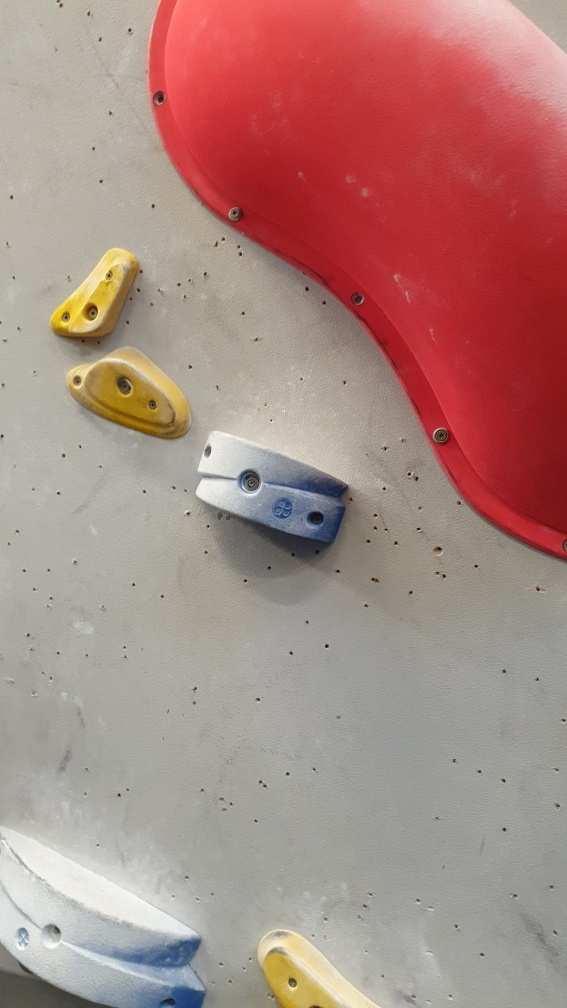Crimp: (256, 923, 376, 1008), (78, 349, 187, 429), (52, 252, 141, 339)
Pinch: (1, 815, 208, 1006), (192, 422, 351, 550)
